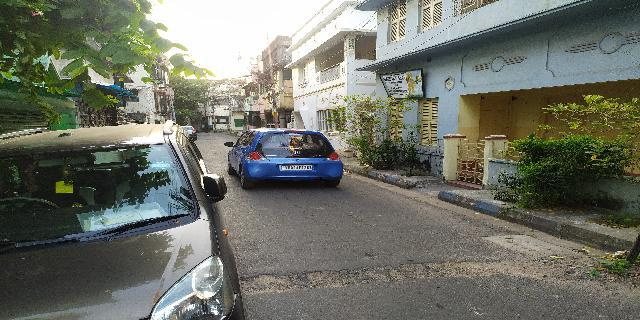Car: (2, 113, 241, 320), (225, 122, 351, 194)
